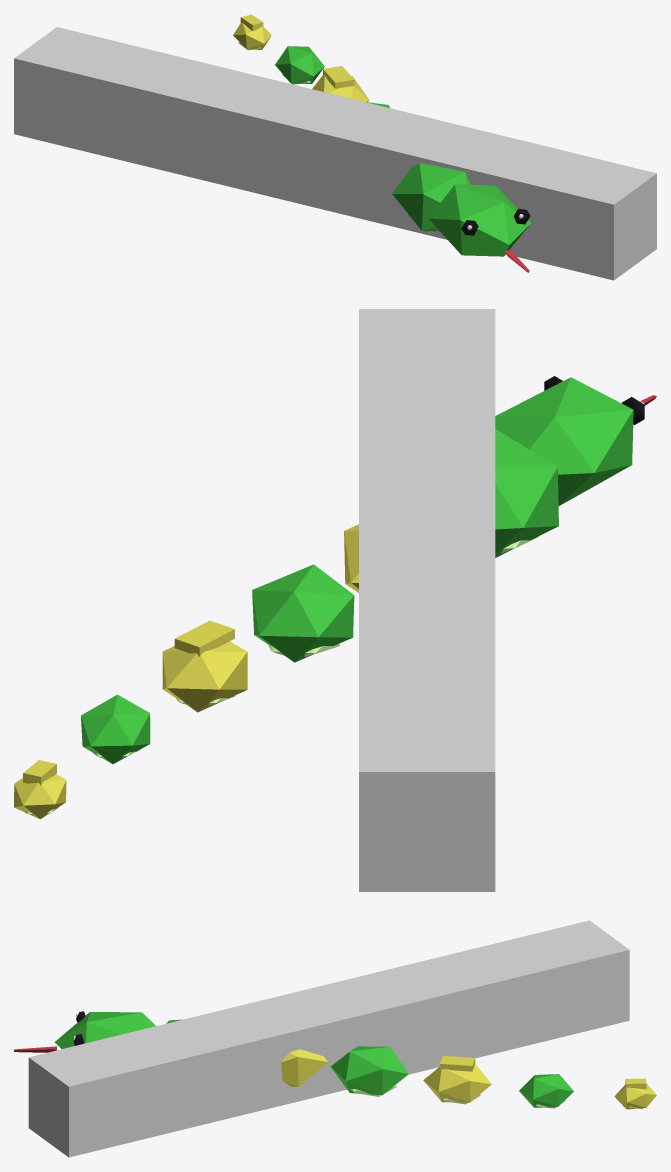
File: jungle_green_snake.fbx
3 renders of one model, top to bottom at view 1: azimuth 30°, elevation 25°; view 2: azimuth 150°, elevation 25°; view 3: azimuth 270°, elevation 25°, orthographic. The views are drawn at different scales.
Visible parts, largest first — view 1: Root__-0.01_0.30_0.52__0.62_0.60_5.00, Head__Seg1__0.00_0.33_-0.90, Seg1__Root__0.00_0.33_-0.93, Seg5__Seg4__0.00_0.17_1.83, Seg4__Seg3__0.00_0.21_1.14, Seg6__Seg5__0.00_0.13_2.52; view 2: Root__-0.01_0.30_0.52__0.62_0.60_5.00, Head__Seg1__0.00_0.33_-0.90, Seg3__Seg2__0.00_0.25_0.45, Seg1__Root__0.00_0.33_-0.93, Seg4__Seg3__0.00_0.21_1.14, Seg5__Seg4__0.00_0.17_1.83, Seg6__Seg5__0.00_0.13_2.52, Seg2__Seg1__0.00_0.29_-0.24; view 3: Root__-0.01_0.30_0.52__0.62_0.60_5.00, Seg3__Seg2__0.00_0.25_0.45, Head__Seg1__0.00_0.33_-0.90, Seg4__Seg3__0.00_0.21_1.14, Seg5__Seg4__0.00_0.17_1.83, Seg2__Seg1__0.00_0.29_-0.24, Seg6__Seg5__0.00_0.13_2.52.
Part boxes in pixels (box(x1,y1,x2,y2)): Root__-0.01_0.30_0.52__0.62_0.60_5.00: box(14, 27, 656, 280); Head__Seg1__0.00_0.33_-0.90: box(428, 184, 530, 272); Seg1__Root__0.00_0.33_-0.93: box(392, 163, 470, 232); Seg5__Seg4__0.00_0.17_1.83: box(275, 46, 324, 84); Seg4__Seg3__0.00_0.21_1.14: box(312, 66, 369, 102); Seg6__Seg5__0.00_0.13_2.52: box(233, 14, 271, 50); Root__-0.01_0.30_0.52__0.62_0.60_5.00: box(359, 309, 495, 891); Head__Seg1__0.00_0.33_-0.90: box(495, 376, 656, 505); Seg3__Seg2__0.00_0.25_0.45: box(252, 564, 354, 662); Seg1__Root__0.00_0.33_-0.93: box(495, 429, 558, 557); Seg4__Seg3__0.00_0.21_1.14: box(162, 620, 247, 712); Seg5__Seg4__0.00_0.17_1.83: box(81, 694, 150, 764); Seg6__Seg5__0.00_0.13_2.52: box(14, 760, 66, 819); Seg2__Seg1__0.00_0.29_-0.24: box(344, 524, 358, 592); Root__-0.01_0.30_0.52__0.62_0.60_5.00: box(28, 920, 629, 1157); Seg3__Seg2__0.00_0.25_0.45: box(330, 1046, 408, 1096); Head__Seg1__0.00_0.33_-0.90: box(14, 1011, 155, 1052); Seg4__Seg3__0.00_0.21_1.14: box(423, 1056, 491, 1104); Seg5__Seg4__0.00_0.17_1.83: box(519, 1074, 573, 1108); Seg2__Seg1__0.00_0.29_-0.24: box(281, 1049, 327, 1086); Seg6__Seg5__0.00_0.13_2.52: box(614, 1078, 656, 1109).
Bounding box in the file's own units: 85.05 × 16.89 × 139.
1 material, 1 textured.
